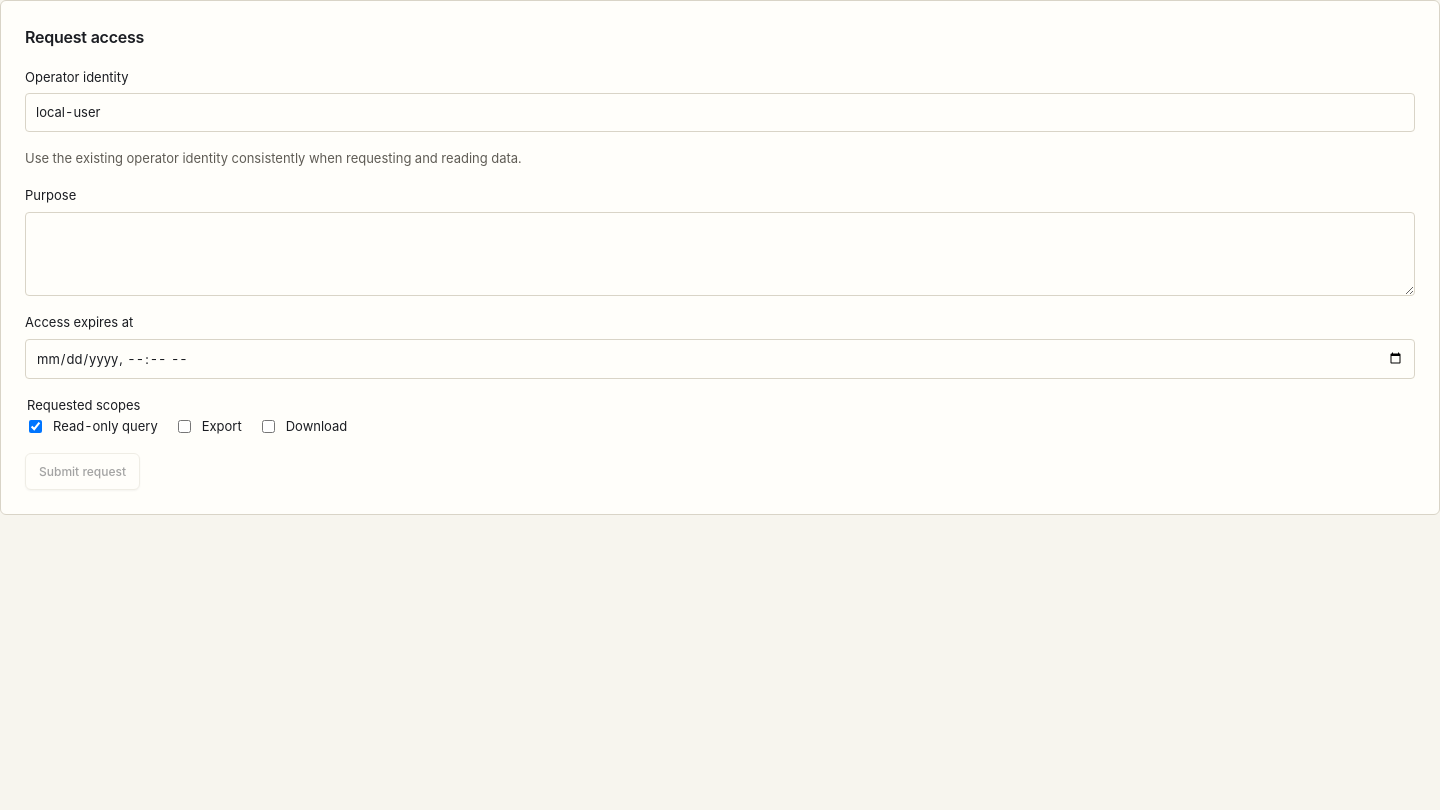
Test: submits purpose, the chosen operator, UTC expiry and exact requested scopes
Replace the text in the field labelled "Operator identity" with "analyst" at (720, 113), box [25,93,1415,132]
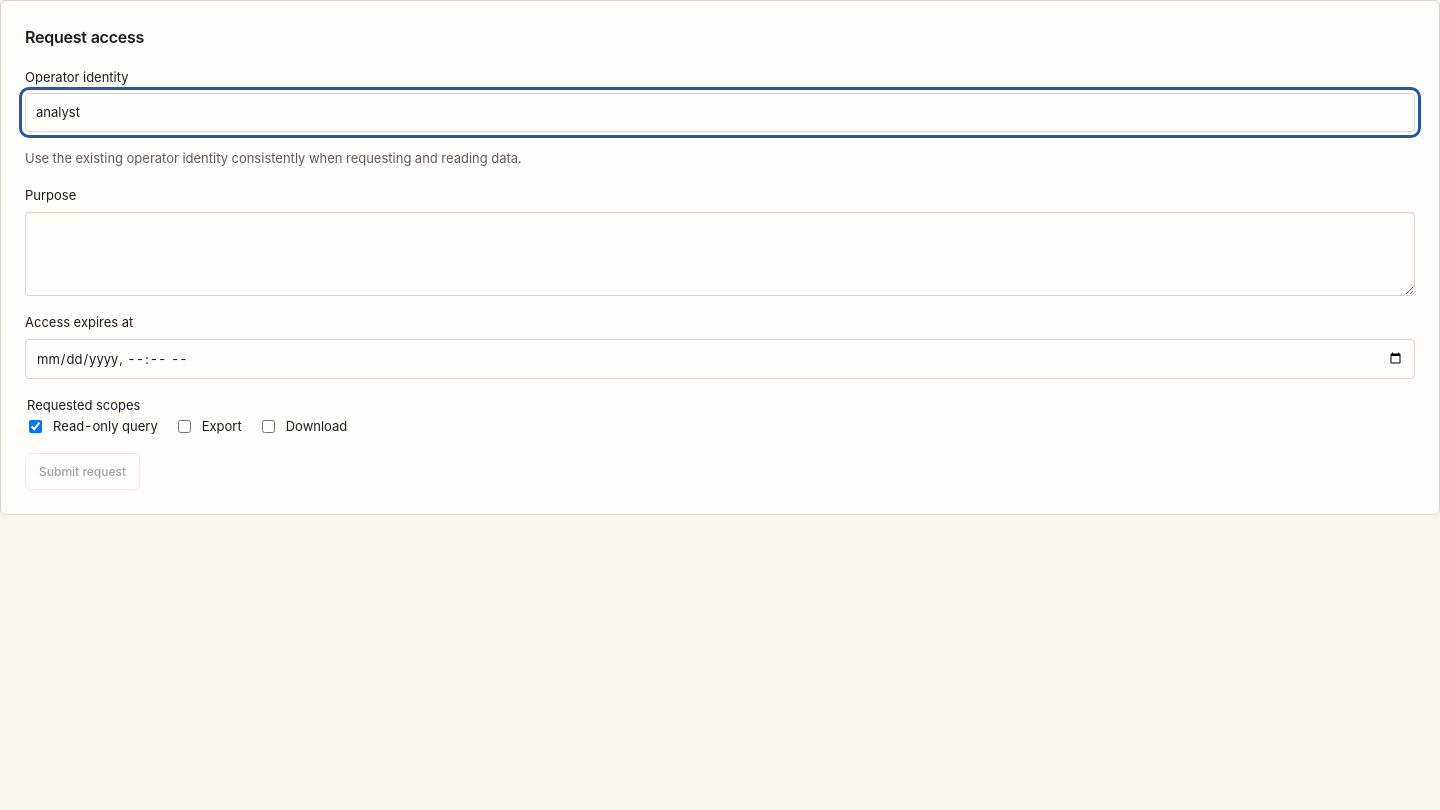
Type "Monthly review" into the text box labelled "Purpose" at (720, 254), box [25,212,1415,296]
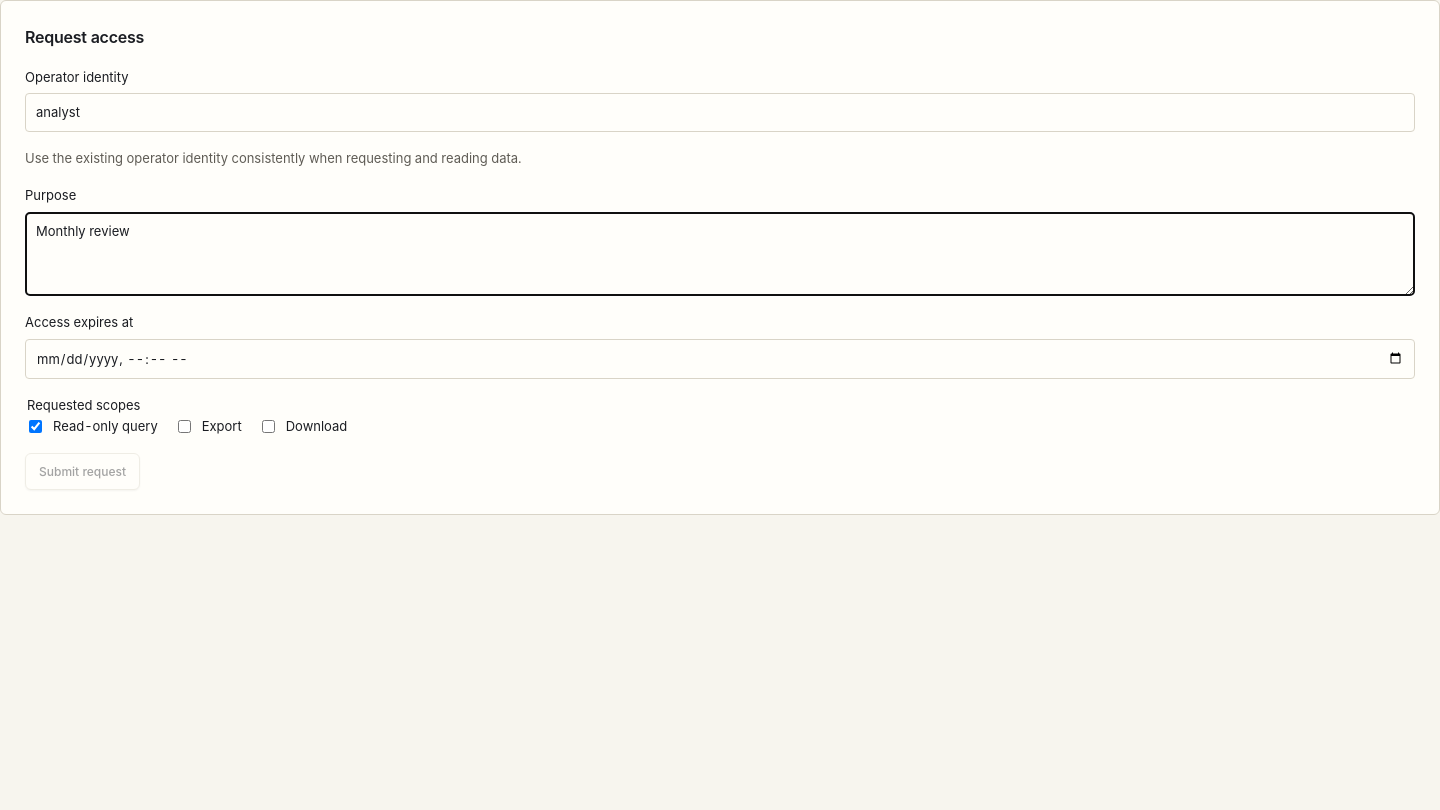
Type "2099-10-28T12:00" into the field labelled "Access expires at" at (720, 359), box [25,339,1415,379]
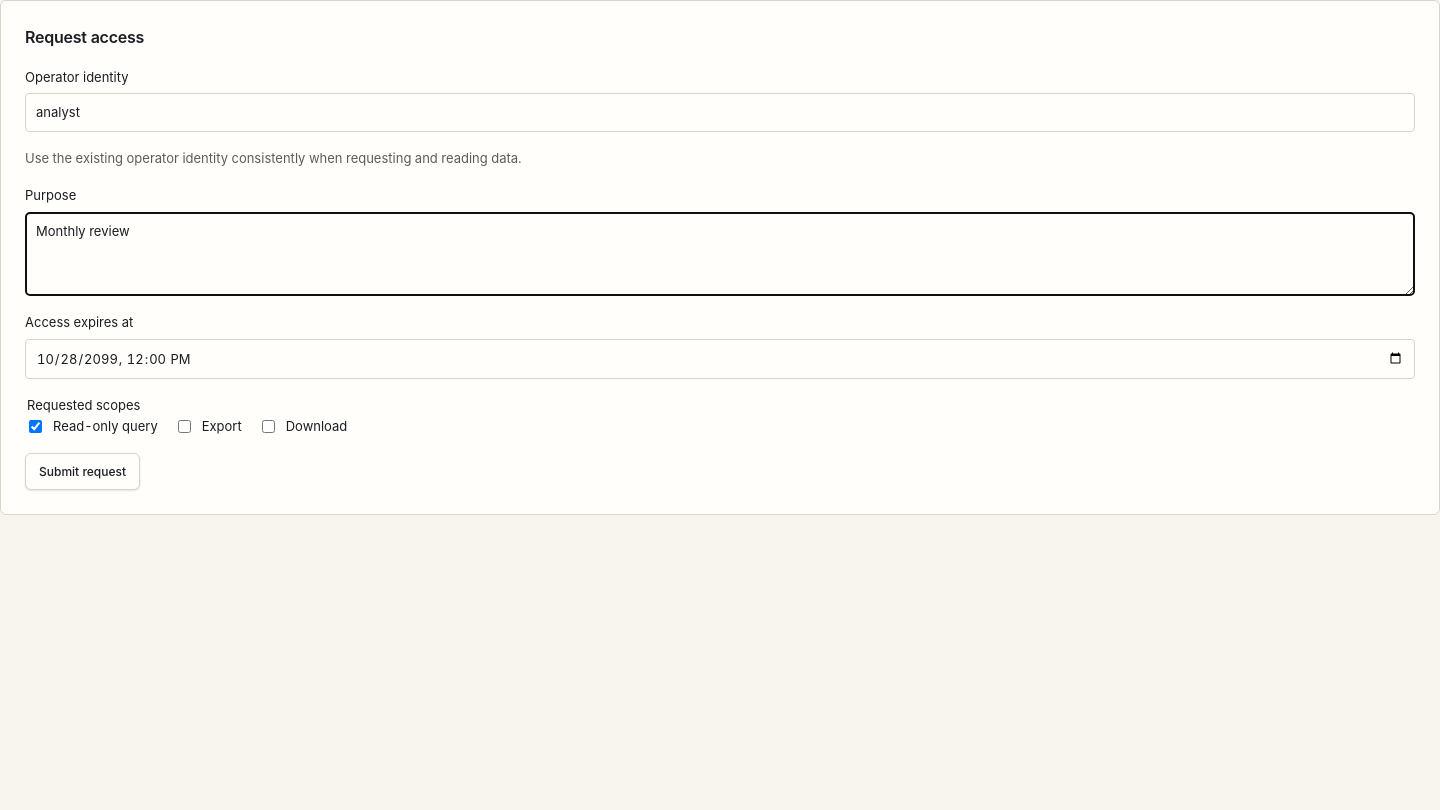
Click the checkbox labelled "Download" at (268, 427), box [262,420,275,433]
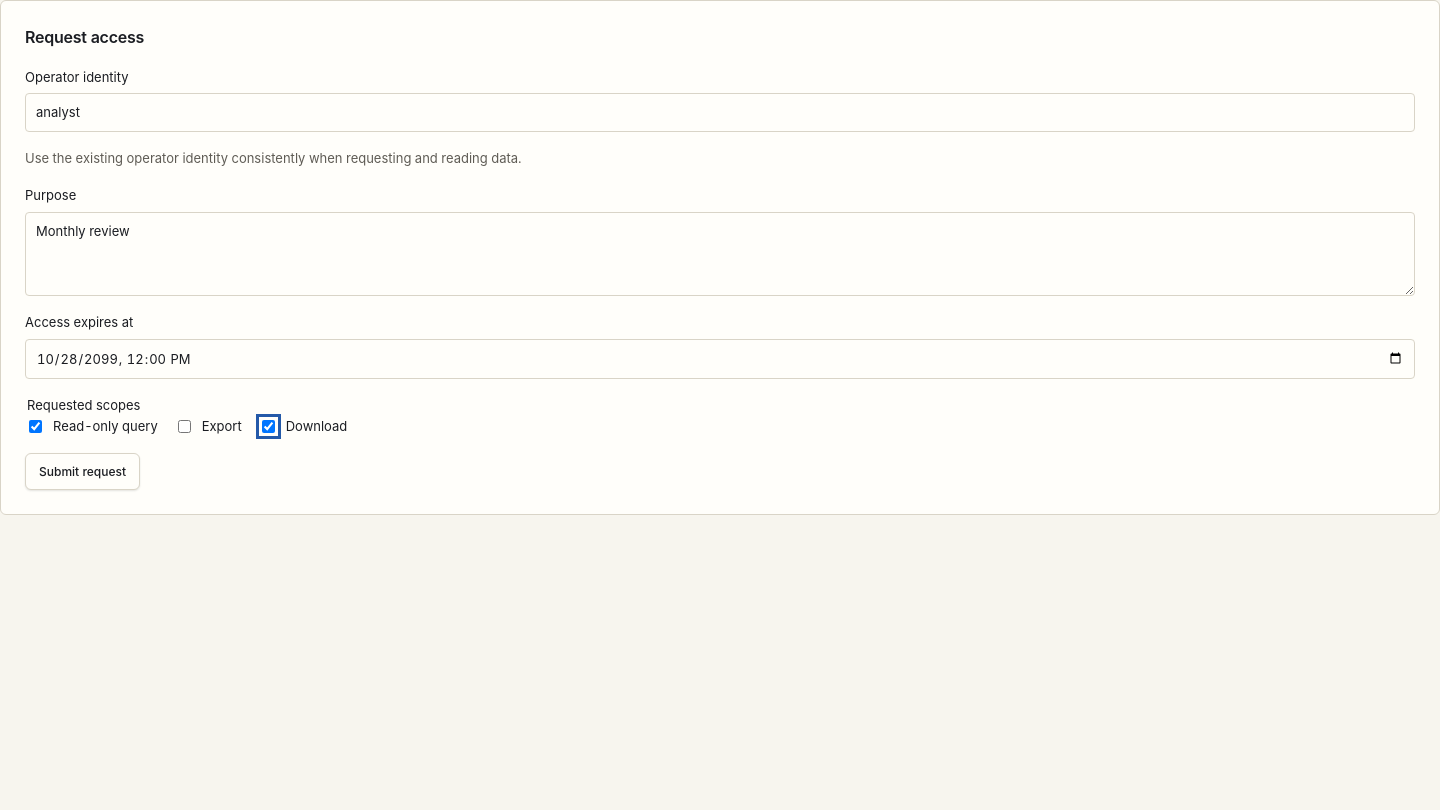
Click the button "Submit request" at (83, 472), box [25,453,140,490]
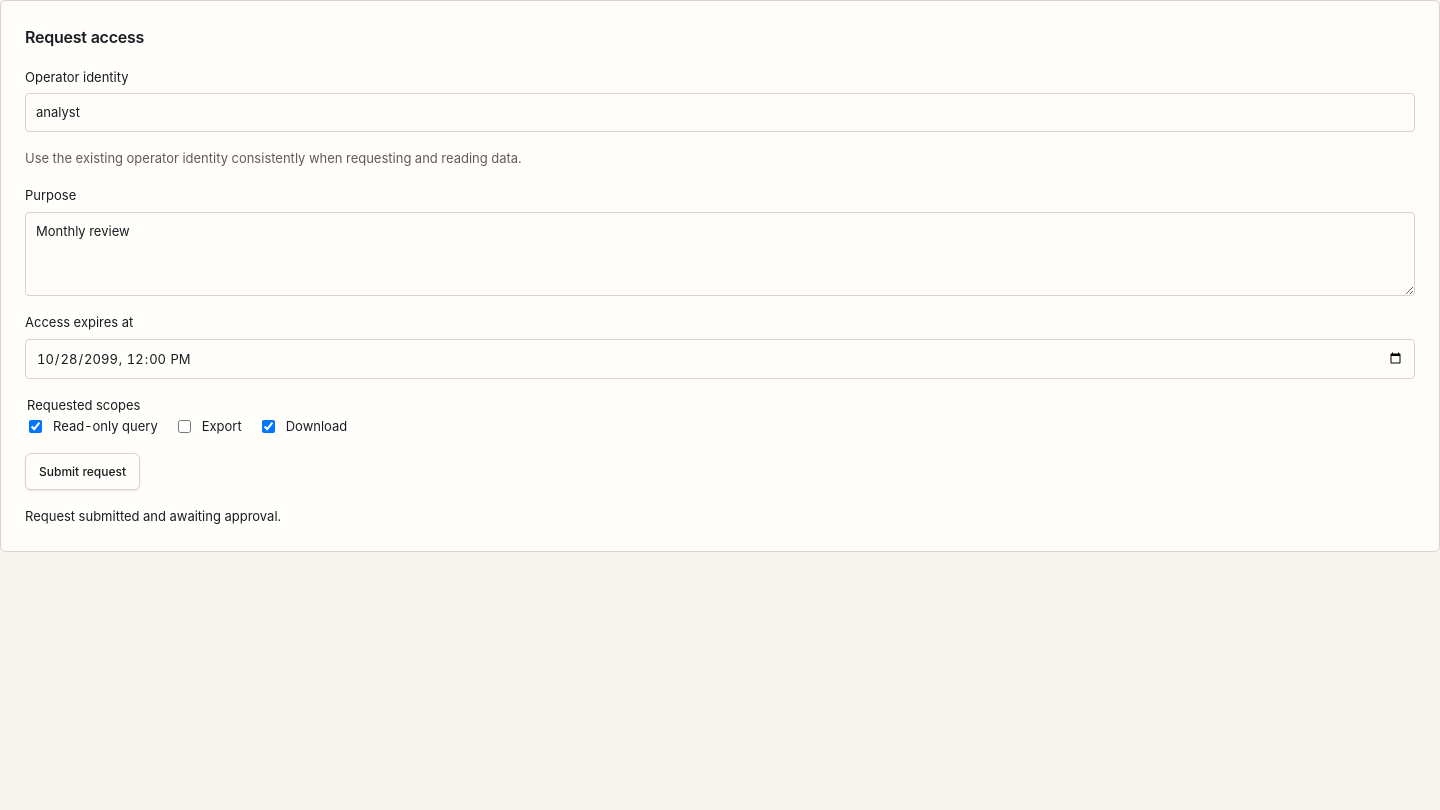
Now the text "Request submitted and awaiting approval." is shown, box [25,508,281,524]
